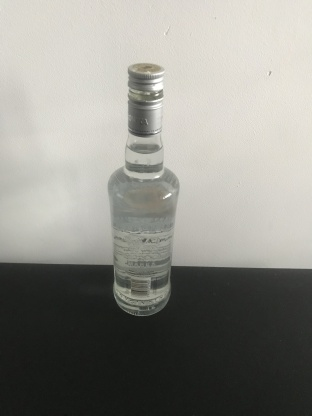nakretka: (125, 62, 165, 137)
